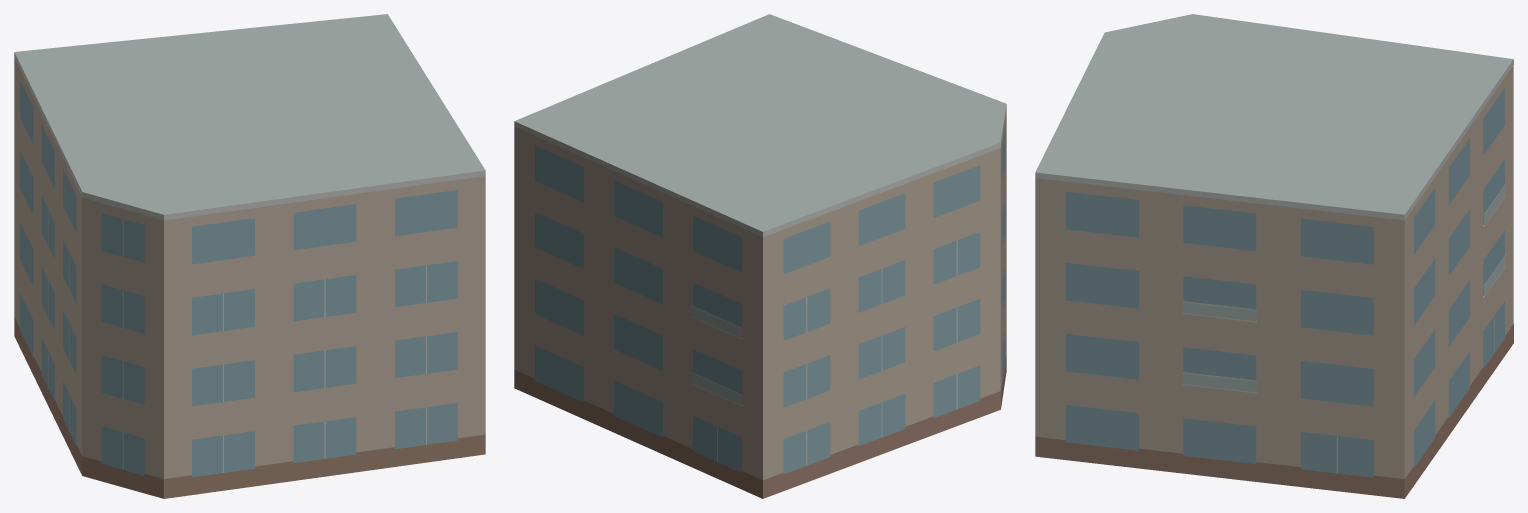
File: survey-upis-32872857.glb
3 renders of one model, left to right at view 1: azimuth 30°, elevation 25°; view 2: azimuth 150°, elevation 25°; view 3: azimuth 270°, elevation 25°, orthographic. The views are drawn at different scales.
Visible parts, largest first — view 1: survey-upis-32872857.tmp; view 2: survey-upis-32872857.tmp; view 3: survey-upis-32872857.tmp.
Part boxes in pixels (x1,y1,x2,y2): survey-upis-32872857.tmp: [14, 14, 485, 498]; survey-upis-32872857.tmp: [514, 14, 1006, 498]; survey-upis-32872857.tmp: [1035, 14, 1513, 498].
Size of the model in its own units: 18.66 by 12.3 by 18.79.
